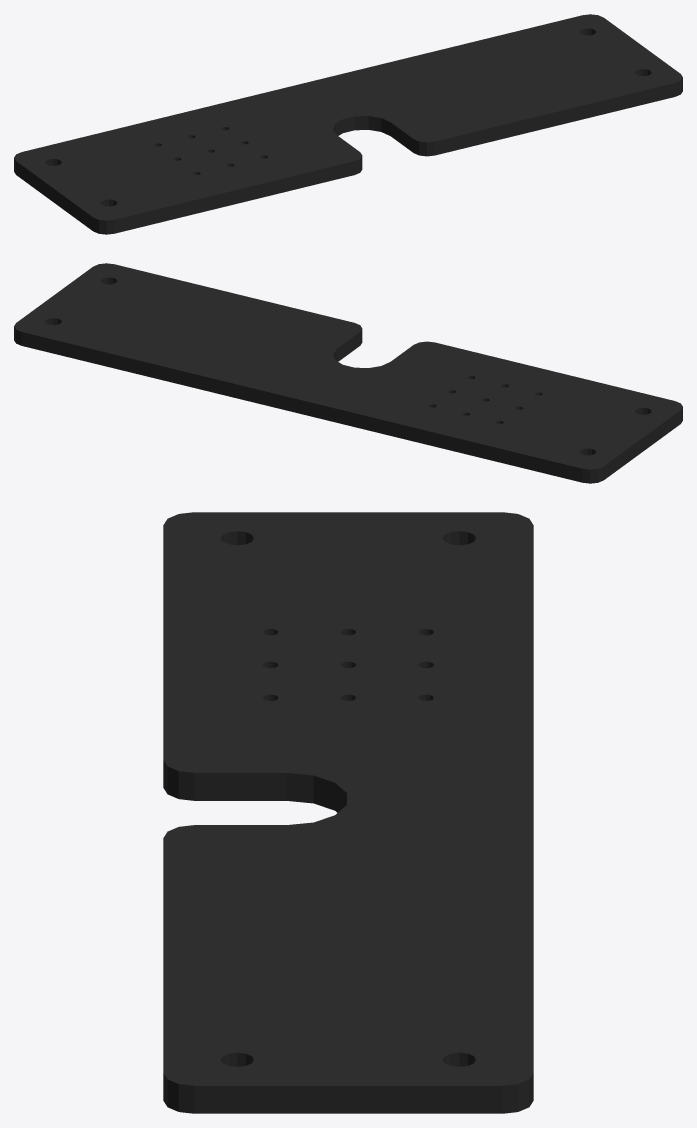
File: creative_plate.dae
3 renders of one model, top to bottom at view 1: azimuth 30°, elevation 25°; view 2: azimuth 150°, elevation 25°; view 3: azimuth 270°, elevation 25°, orthographic. The views are drawn at different scales.
Parts seen in each view (by area): view 1: SketchUp; view 2: SketchUp; view 3: SketchUp.
Part boxes in pixels (box(x1,y1,x2,y2)): SketchUp: box(14, 14, 682, 234); SketchUp: box(14, 263, 682, 483); SketchUp: box(163, 512, 533, 1113).
Bounding box in the file's own units: 5.5 × 1.5 × 0.125.
1 material, 1 textured.
